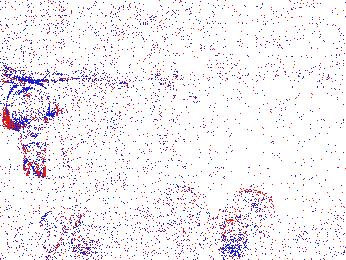flame jellyfish: (4, 80, 61, 177), (33, 203, 95, 255), (222, 189, 277, 242)
